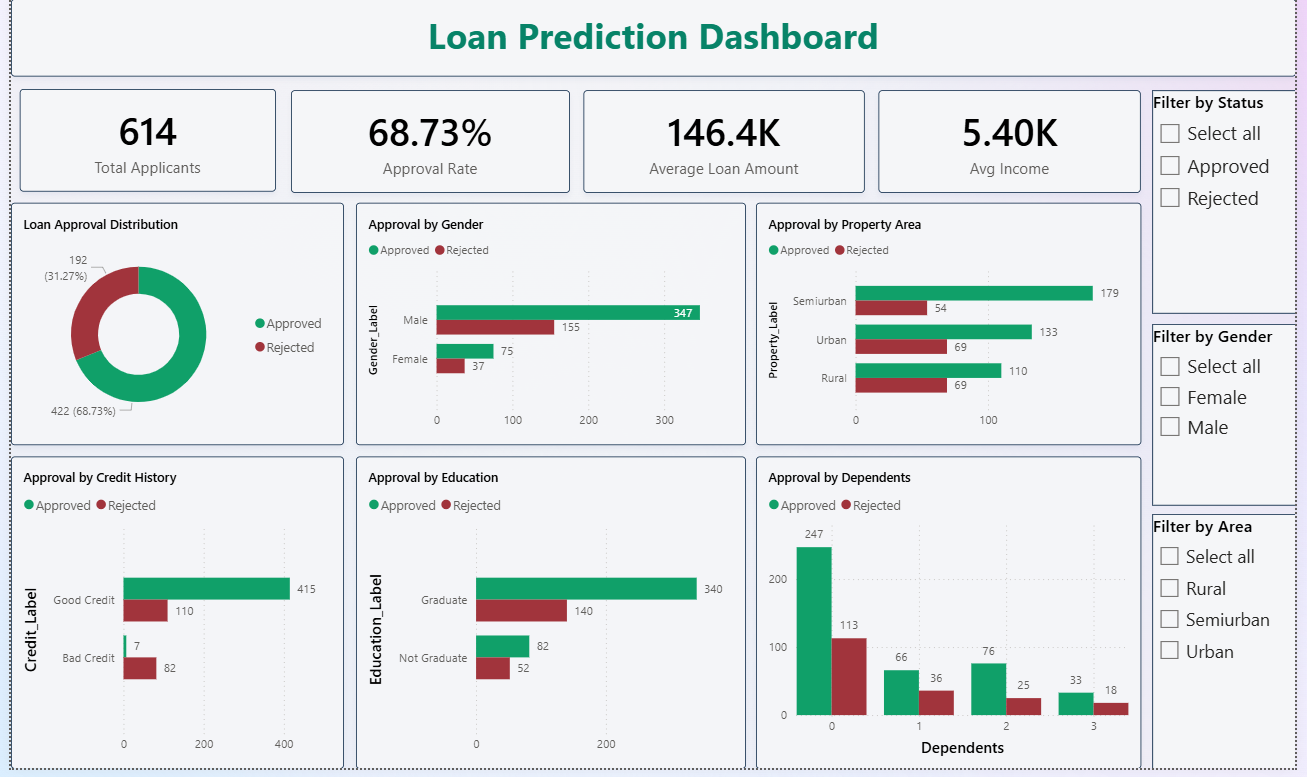

The page's visual inventory and layout, read from the dashboard file:
{"tool":"powerbi","page":{"name":"Loan Approval prediction","canvas":[1352,810],"ordinal":0},"visuals":[{"type":"card","fields":{"Values":["cleaned_loan_data.Total Applicants"]},"box":[9.2,94.7,269.7,107.9],"z":0},{"type":"textbox","box":[0,0,1352.6,81.6],"z":1000},{"type":"card","fields":{"Values":["cleaned_loan_data.Approval Rate"]},"box":[294.7,96.1,293.4,107.9],"z":2000},{"type":"card","fields":{"Values":["cleaned_loan_data.Average Loan Amount"]},"box":[602.6,96.1,296.1,107.9],"z":3000},{"type":"card","fields":{"Values":["cleaned_loan_data.Avg Income"]},"box":[913.2,96.1,276.3,107.9],"z":4000},{"type":"donutChart","title":"Loan Approval Distribution","fields":{"Category":["cleaned_loan_data.Loan_Status_Label"],"Y":["cleaned_loan_data.Total Applicants"]},"box":[0,214.5,350,255.3],"z":5000},{"type":"clusteredBarChart","title":"Approval by Gender","fields":{"Category":["cleaned_loan_data.Gender_Label"],"Y":["cleaned_loan_data.Total Applicants"],"Series":["cleaned_loan_data.Loan_Status_Label"]},"box":[363.2,214.5,410.5,255.3],"z":6000},{"type":"clusteredBarChart","title":"Approval by Property Area","fields":{"Category":["cleaned_loan_data.Property_Label"],"Y":["cleaned_loan_data.Total Applicants"],"Series":["cleaned_loan_data.Loan_Status_Label"]},"box":[784.2,214.5,405.3,255.3],"z":7000},{"type":"clusteredBarChart","title":"Approval by Credit History","fields":{"Category":["cleaned_loan_data.Credit_Label"],"Y":["cleaned_loan_data.Total Applicants"],"Series":["cleaned_loan_data.Loan_Status_Label"]},"box":[0,481.6,350,328.9],"z":8000},{"type":"clusteredBarChart","title":"Approval by Education","fields":{"Category":["cleaned_loan_data.Education_Label"],"Y":["cleaned_loan_data.Total Applicants"],"Series":["cleaned_loan_data.Loan_Status_Label"]},"box":[363.2,481.6,410.5,328.9],"z":9000},{"type":"clusteredColumnChart","title":"Approval by Dependents","fields":{"Category":["cleaned_loan_data.Dependents"],"Y":["cleaned_loan_data.Total Applicants"],"Series":["cleaned_loan_data.Loan_Status_Label"]},"box":[784.2,481.6,405.3,328.9],"z":10000},{"type":"slicer","title":"Filter by Status","fields":{"Values":["cleaned_loan_data.Loan_Status_Label"]},"box":[1201.3,96.1,151.3,235.5],"z":10001},{"type":"slicer","title":"Filter by Gender","fields":{"Values":["cleaned_loan_data.Gender_Label"]},"box":[1201.3,342.1,151.3,191],"z":10002},{"type":"slicer","title":"Filter by Area","fields":{"Values":["cleaned_loan_data.Property_Label"]},"box":[1201.3,542.1,151.3,268.4],"z":10003}]}

Visuals, with their boxes in screenshot pixels (x1, y1, x2, y2), scaled from the page's 1352x810 canvas onto the 1307x777 screenshot:
card - cleaned_loan_data.Total Applicants: (x1=9, y1=91, x2=270, y2=194)
textbox: (x1=0, y1=0, x2=1306, y2=78)
card - cleaned_loan_data.Approval Rate: (x1=285, y1=92, x2=569, y2=196)
card - cleaned_loan_data.Average Loan Amount: (x1=583, y1=92, x2=869, y2=196)
card - cleaned_loan_data.Avg Income: (x1=883, y1=92, x2=1150, y2=196)
"Loan Approval Distribution" donutChart: (x1=0, y1=206, x2=338, y2=451)
"Approval by Gender" clusteredBarChart: (x1=351, y1=206, x2=748, y2=451)
"Approval by Property Area" clusteredBarChart: (x1=758, y1=206, x2=1150, y2=451)
"Approval by Credit History" clusteredBarChart: (x1=0, y1=462, x2=338, y2=776)
"Approval by Education" clusteredBarChart: (x1=351, y1=462, x2=748, y2=776)
"Approval by Dependents" clusteredColumnChart: (x1=758, y1=462, x2=1150, y2=776)
"Filter by Status" slicer: (x1=1161, y1=92, x2=1306, y2=318)
"Filter by Gender" slicer: (x1=1161, y1=328, x2=1306, y2=511)
"Filter by Area" slicer: (x1=1161, y1=520, x2=1306, y2=776)
